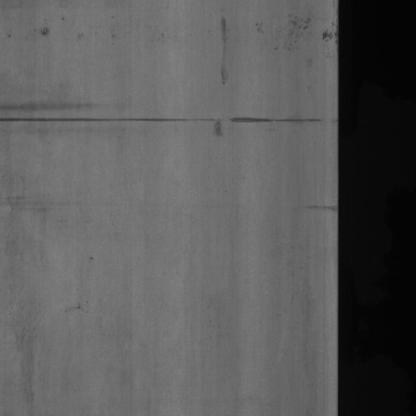crease: (3, 108, 322, 140), (295, 202, 338, 218)
